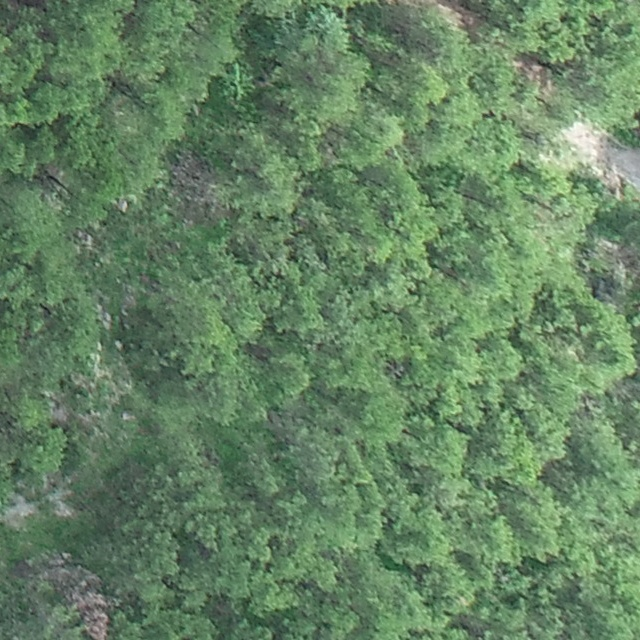unhealthy: (165, 148, 226, 224), (36, 552, 102, 592), (69, 588, 111, 640)
